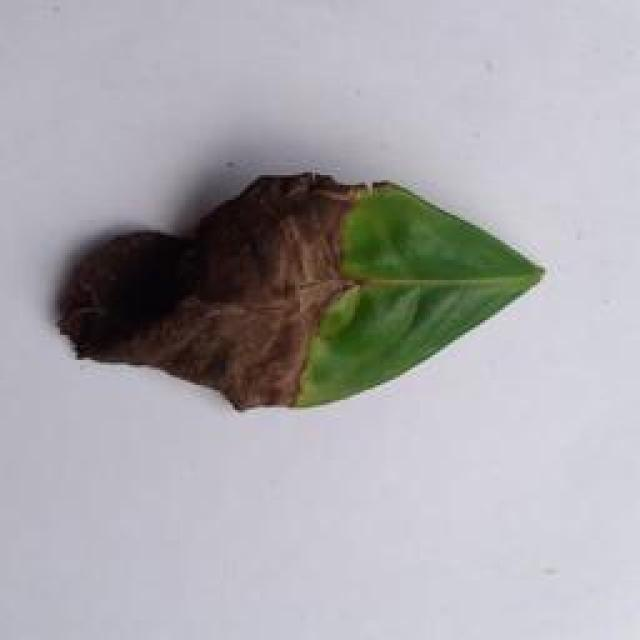Brown Blight: (35, 163, 549, 424)
